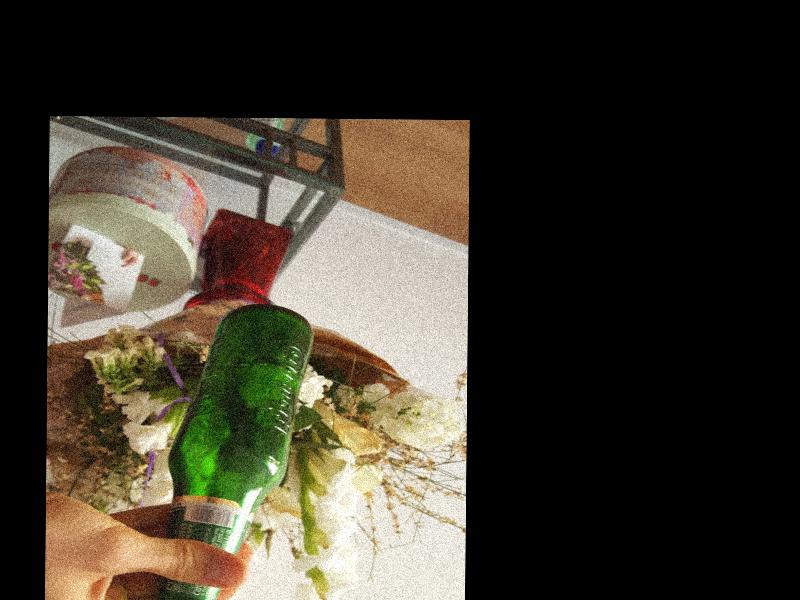Beer: (166, 303, 313, 600)
